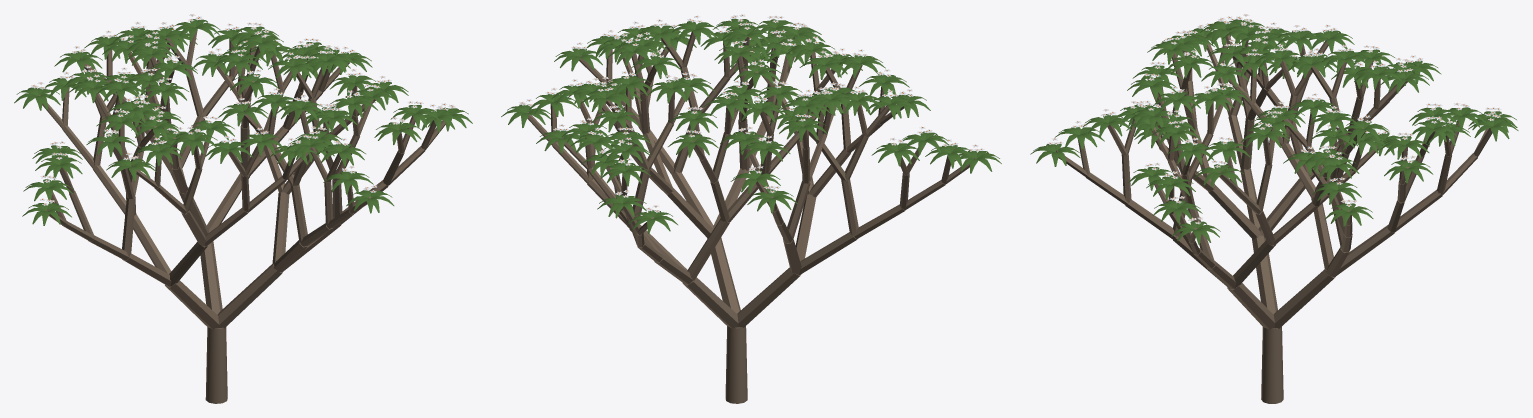
File: frangipani_hoa_su.glb
3 renders of one model, left to right at view 1: azimuth 30°, elevation 25°; view 2: azimuth 150°, elevation 25°; view 3: azimuth 270°, elevation 25°, orthographic.
Parts seen in each view (by area): view 1: frangipani_hoa_su; view 2: frangipani_hoa_su; view 3: frangipani_hoa_su.
Boxes of the visible parts, box(x1,y1,x2,y2) form: frangipani_hoa_su: box(14, 14, 472, 403); frangipani_hoa_su: box(501, 14, 1001, 403); frangipani_hoa_su: box(1030, 14, 1518, 403).
Size of the model in its own units: 4.96 by 3.63 by 4.76.
